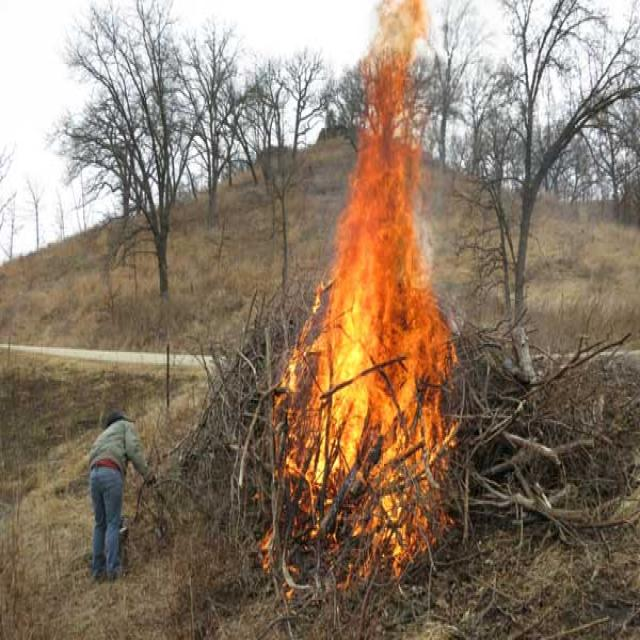fire: (328, 98, 437, 531)
